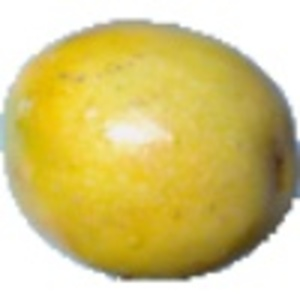maracujá: (1, 18, 300, 283)
